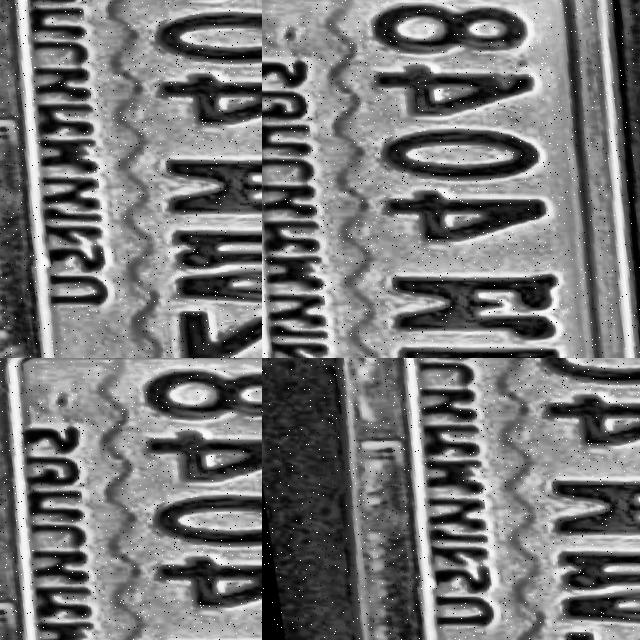license-plate: (275, 358, 640, 640)
